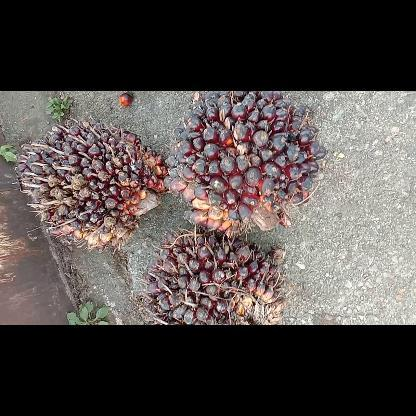TBS mentah: (164, 90, 326, 232), (13, 119, 165, 248), (141, 232, 287, 324)
